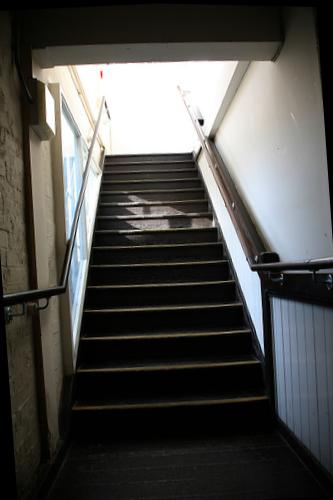Bench: (53, 144, 271, 441)
